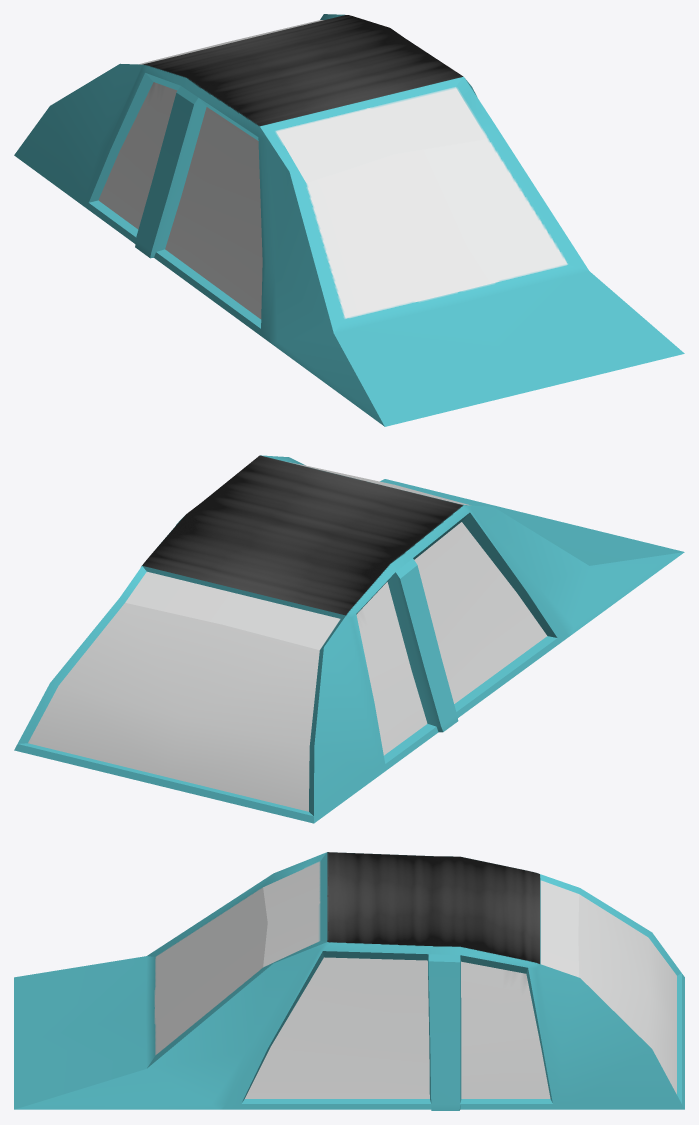
The model's file is EV-TOP-5dqhSK4g.glb.
3 views of the same model, one above another, from view 1: azimuth 30°, elevation 25°; view 2: azimuth 150°, elevation 25°; view 3: azimuth 270°, elevation 25° (orthographic). The views are drawn at different scales.
Size of the model in its own units: 1.54 by 0.774 by 3.21.
1 material, 1 textured.
